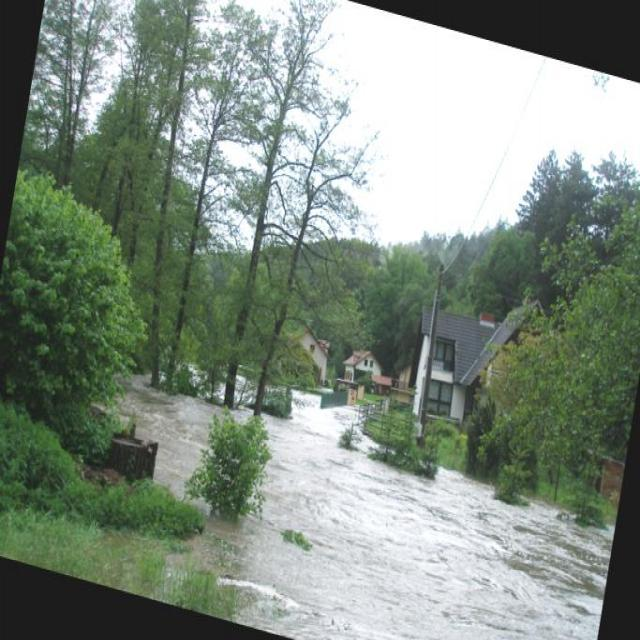flood: (70, 319, 625, 639)
